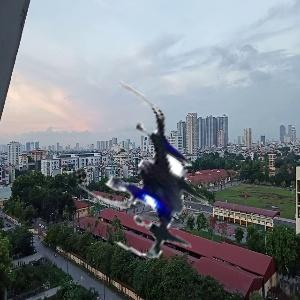drone: (75, 102, 229, 256)
